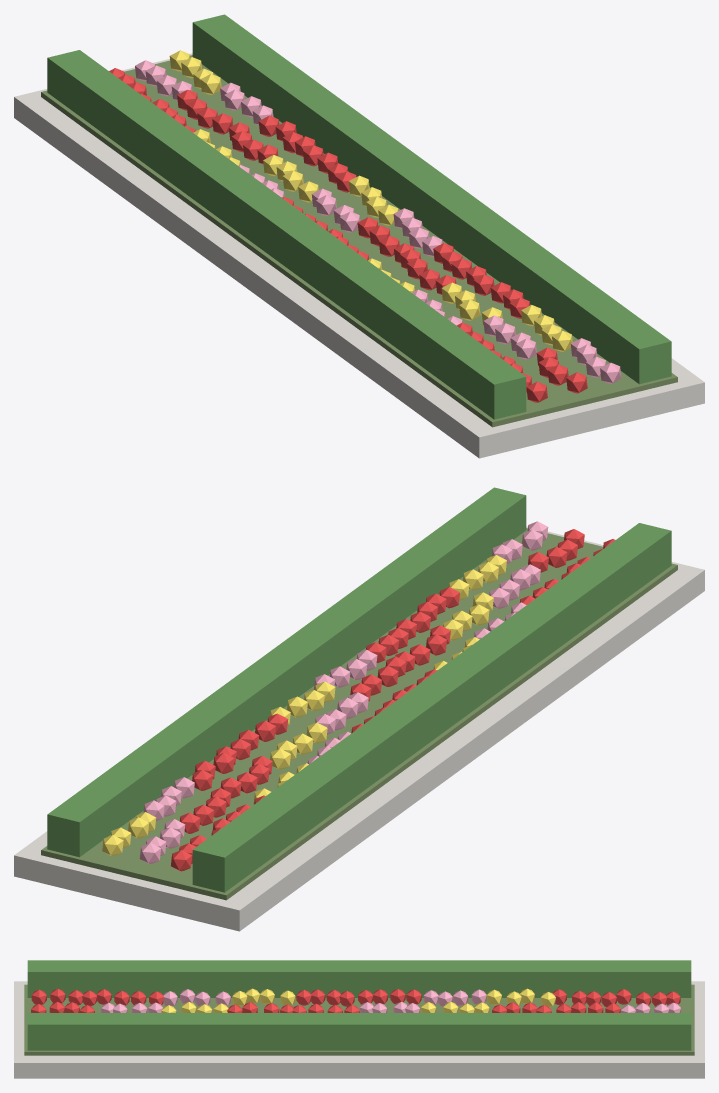
File: median_bed.glb
3 renders of one model, top to bottom at view 1: azimuth 30°, elevation 25°; view 2: azimuth 150°, elevation 25°; view 3: azimuth 270°, elevation 25°, orthographic. The views are drawn at different scales.
Visible parts, largest first — view 1: hedge, curb, soil, flower_red, flower_pink, flower_yellow; view 2: hedge, curb, soil, flower_red, flower_pink, flower_yellow; view 3: hedge, curb, soil, flower_red, flower_pink, flower_yellow.
Boxes of the visible parts, x1,y1,x2,y2 form: hedge: (47,14,671,419); curb: (14,53,704,458); soil: (41,55,677,427); flower_red: (109,68,587,402); flower_pink: (135,60,621,383); flower_yellow: (169,50,572,351); hedge: (47,487,671,892); curb: (14,526,704,931); soil: (41,528,677,900); flower_red: (171,529,615,871); flower_pink: (139,521,548,863); flower_yellow: (102,555,506,856); hedge: (27,960,691,1050); curb: (14,981,704,1078); soil: (24,984,694,1055); flower_red: (31,989,680,1012); flower_pink: (101,989,680,1012); flower_yellow: (161,988,555,1012).
Size of the model in its own units: 2.8 by 0.725 by 10.
